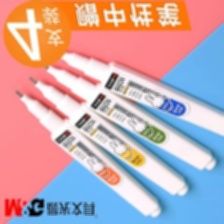correction_fluid: (10, 87, 164, 220), (36, 62, 217, 173), (26, 75, 189, 198), (49, 49, 224, 143)
